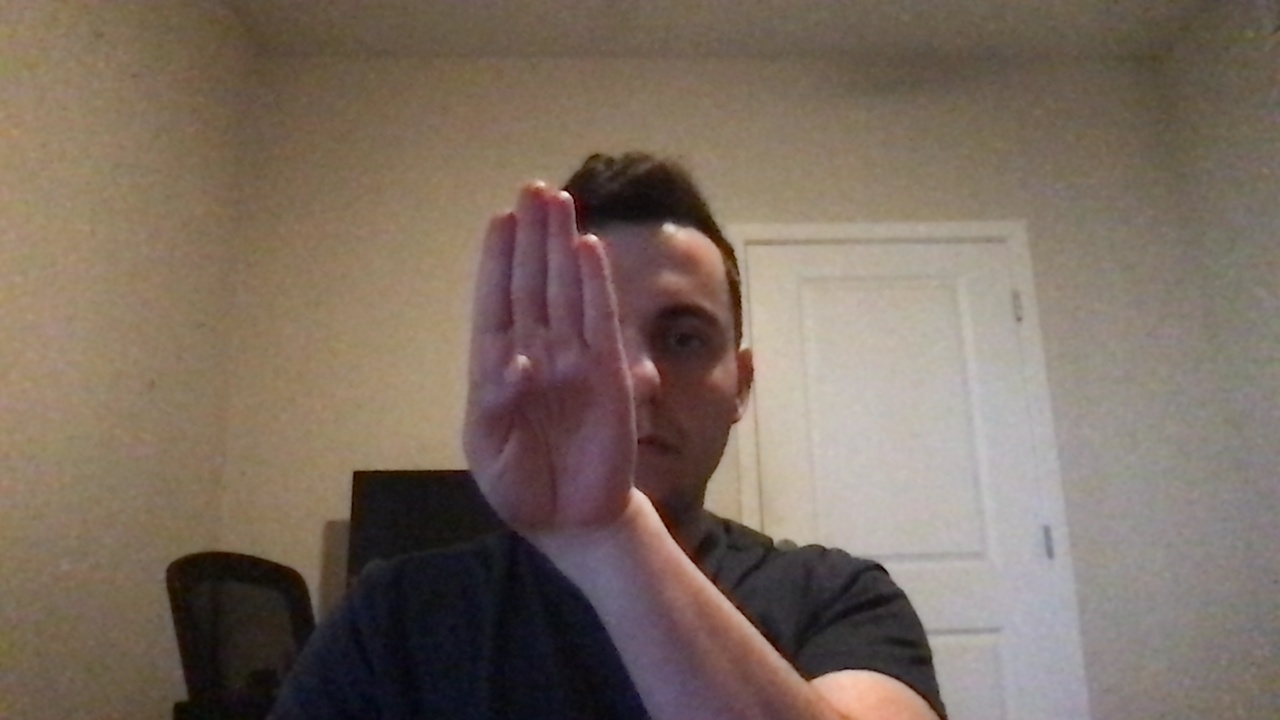b: (446, 172, 658, 554)
